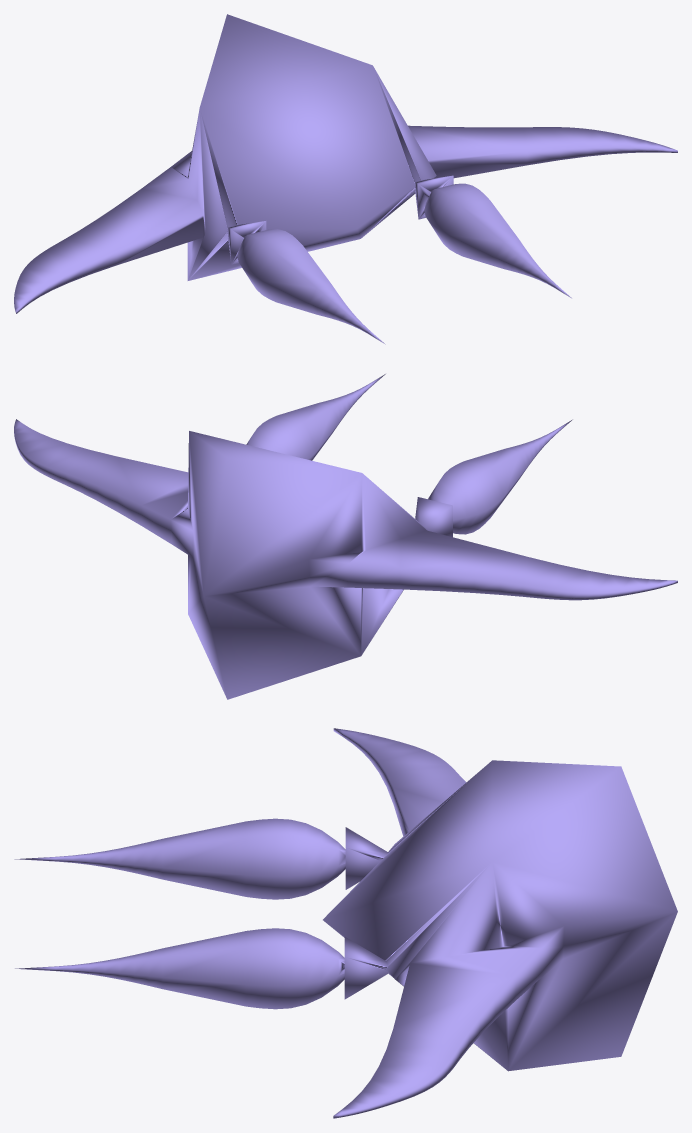
The model's file is spaceship_with_fire.obj.
3 views of the same model, one above another, from view 1: azimuth 30°, elevation 25°; view 2: azimuth 150°, elevation 25°; view 3: azimuth 270°, elevation 25° (orthographic). The views are drawn at different scales.
Parts seen in each view (by area): view 1: spaceship; view 2: spaceship; view 3: spaceship.
Part boxes in pixels (box(x1,y1,x2,y2)): spaceship: box(14, 14, 677, 344); spaceship: box(14, 374, 677, 699); spaceship: box(14, 728, 677, 1118).
Bounding box in the file's own units: 97.24 × 33.94 × 70.36.
